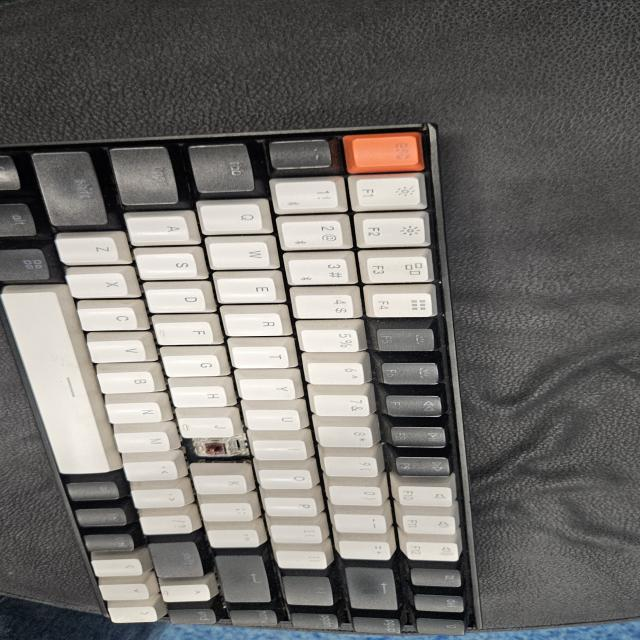C: (195, 439, 238, 463)
